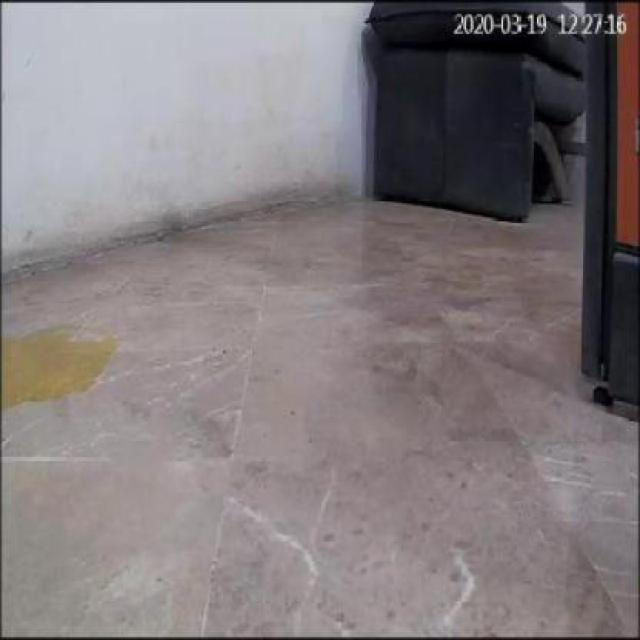spillage: (3, 326, 118, 408)
